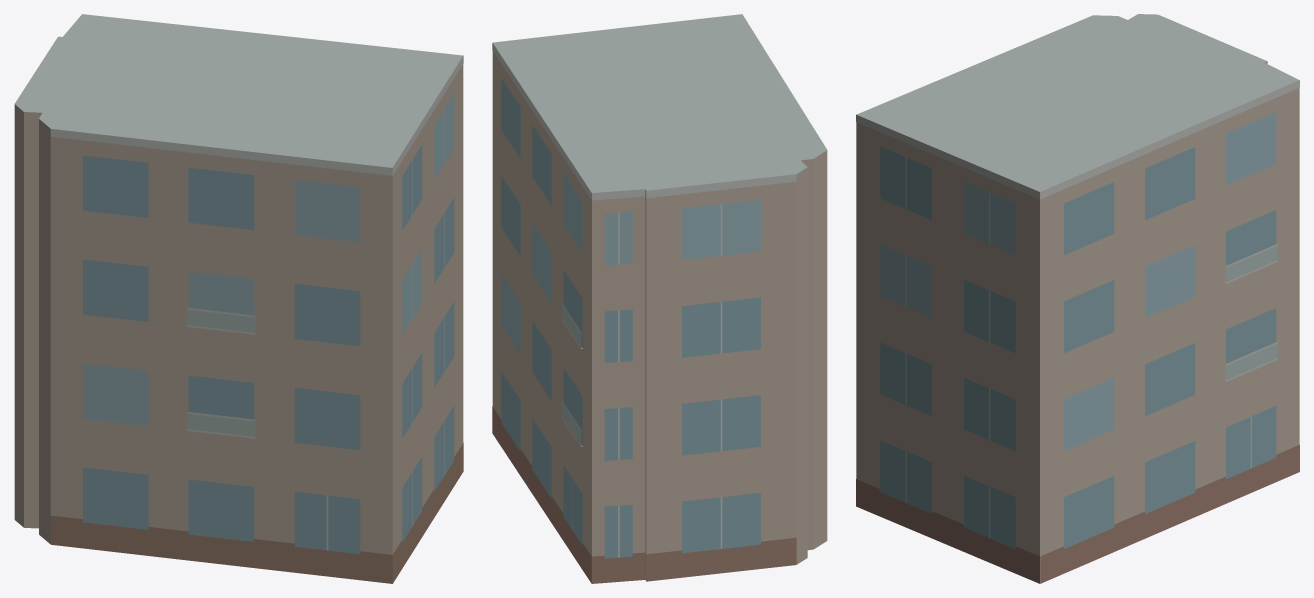
Rendered from survey-upis-32914691.glb.
3 renders of one model, left to right at view 1: azimuth 30°, elevation 25°; view 2: azimuth 150°, elevation 25°; view 3: azimuth 270°, elevation 25°, orthographic. The views are drawn at different scales.
Parts seen in each view (by area): view 1: survey-upis-32914691.tmp; view 2: survey-upis-32914691.tmp; view 3: survey-upis-32914691.tmp.
Boxes of the visible parts, x1,y1,x2,y2 form: survey-upis-32914691.tmp: (14,14,463,583); survey-upis-32914691.tmp: (492,14,827,583); survey-upis-32914691.tmp: (856,14,1299,583).
Bounding box in the file's own units: 12.48 × 12.8 × 13.14.
